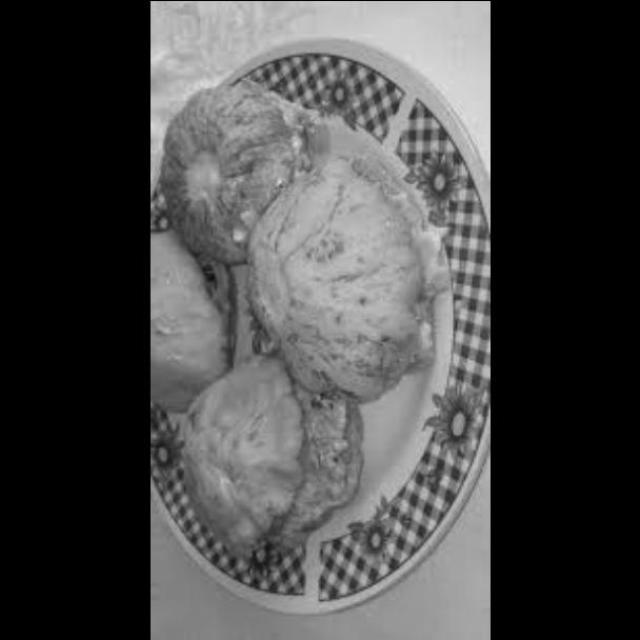squash: (238, 147, 429, 400), (177, 367, 368, 557), (152, 72, 286, 268), (150, 227, 230, 421)
